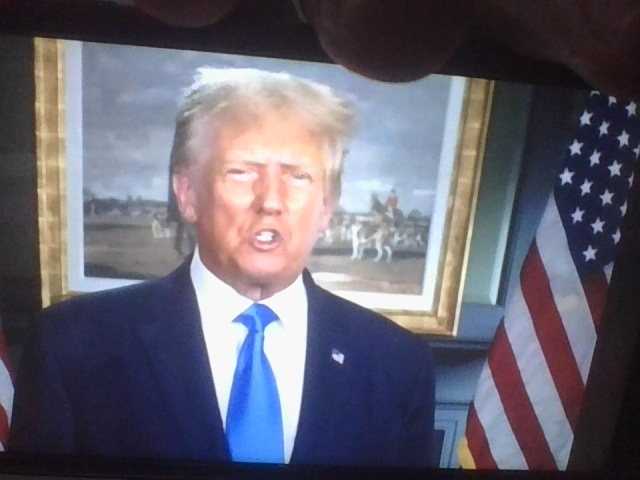fake: (177, 62, 345, 300)
